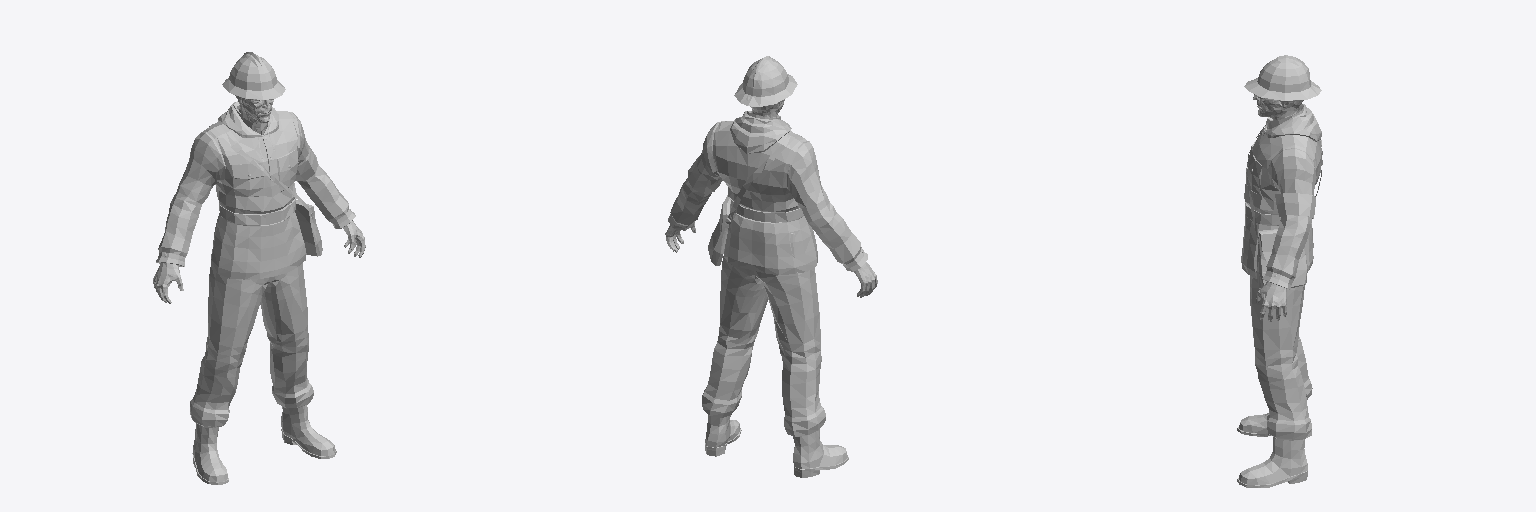
File: Foreign Legion soldier.obj
3 views of the same model, side by side, from view 1: azimuth 30°, elevation 25°; view 2: azimuth 150°, elevation 25°; view 3: azimuth 270°, elevation 25° (orthographic).
Parts seen in each view (by area): view 1: Mesh_1239.rip, Mesh_1253.rip, Mesh_1237.rip, Mesh_1251.rip, Mesh_1235.rip, Mesh_1231.rip, Mesh_1241.rip; view 2: Mesh_1239.rip, Mesh_1253.rip, Mesh_1237.rip, Mesh_1251.rip, Mesh_1235.rip, Mesh_1231.rip; view 3: Mesh_1239.rip, Mesh_1253.rip, Mesh_1237.rip, Mesh_1251.rip, Mesh_1231.rip, Mesh_1235.rip, Mesh_1259.rip, Mesh_1241.rip.
Part boxes in pixels (x1,y1,x2,y2): Mesh_1239.rip: (156,102,355,279); Mesh_1253.rip: (190,223,313,427); Mesh_1237.rip: (192,405,336,484); Mesh_1251.rip: (222,52,285,99); Mesh_1235.rip: (153,198,365,303); Mesh_1231.rip: (209,124,322,256); Mesh_1241.rip: (235,95,273,123); Mesh_1239.rip: (668,111,867,274); Mesh_1253.rip: (702,233,825,436); Mesh_1237.rip: (705,415,848,477); Mesh_1251.rip: (734,56,797,106); Mesh_1235.rip: (665,199,877,297); Mesh_1231.rip: (708,134,801,265); Mesh_1239.rip: (1241,104,1321,289); Mesh_1253.rip: (1250,276,1312,440); Mesh_1237.rip: (1237,413,1307,487); Mesh_1251.rip: (1244,55,1321,100); Mesh_1231.rip: (1246,125,1322,288); Mesh_1235.rip: (1246,203,1286,321); Mesh_1259.rip: (1275,193,1315,218); Mesh_1241.rip: (1253,94,1303,120).
Bounding box in the file's own units: 10 × 18.61 × 3.59.